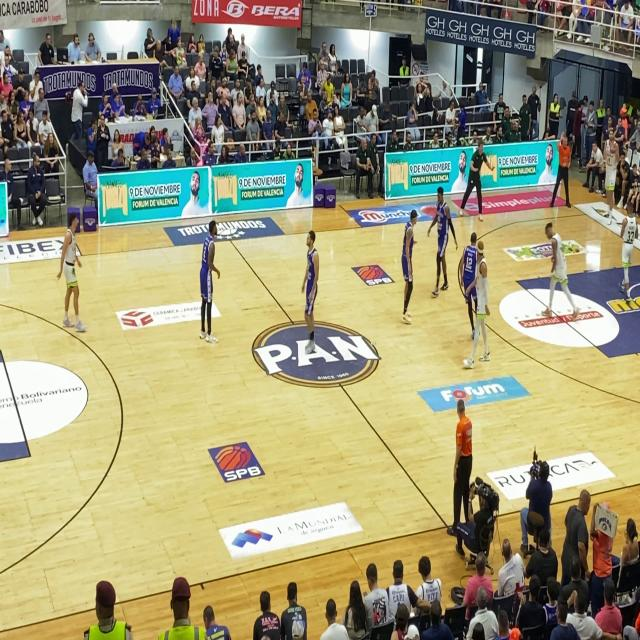referee: (448, 397, 479, 523), (548, 126, 573, 227)
team1: (52, 206, 81, 332)
team2: (292, 218, 320, 357), (195, 214, 224, 336), (430, 182, 458, 298), (462, 122, 490, 227), (397, 202, 420, 314)
